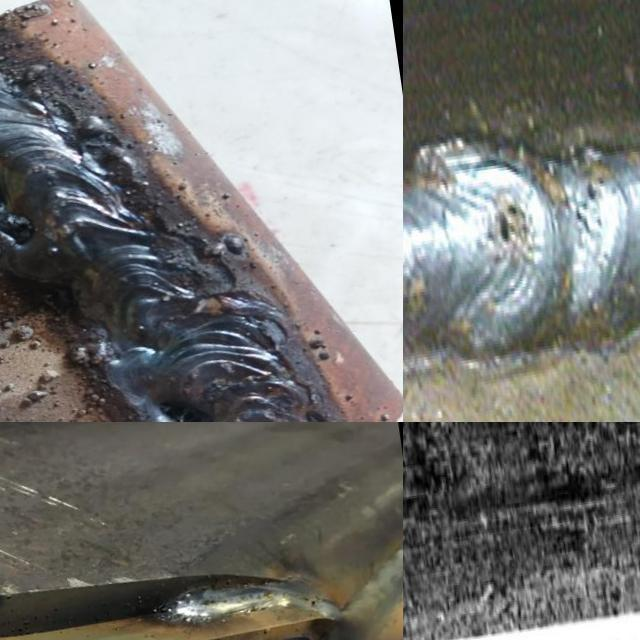defect: (566, 163, 602, 241), (0, 185, 35, 242), (149, 398, 219, 422), (493, 198, 518, 258)
